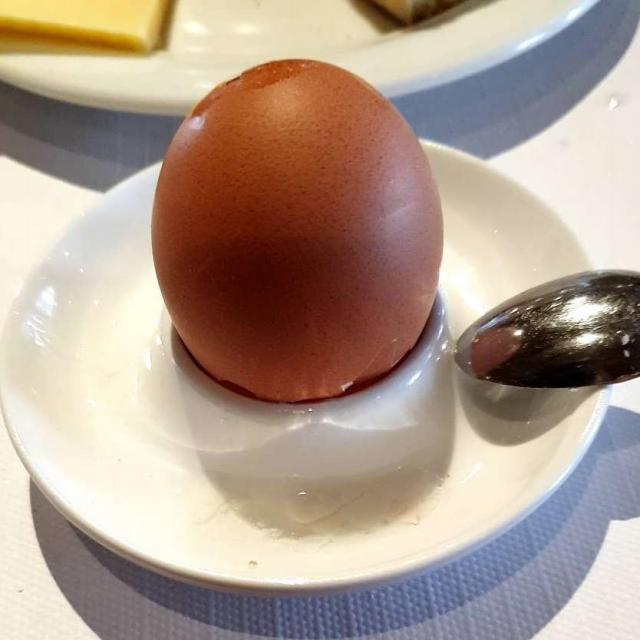egg: (152, 66, 443, 395)
